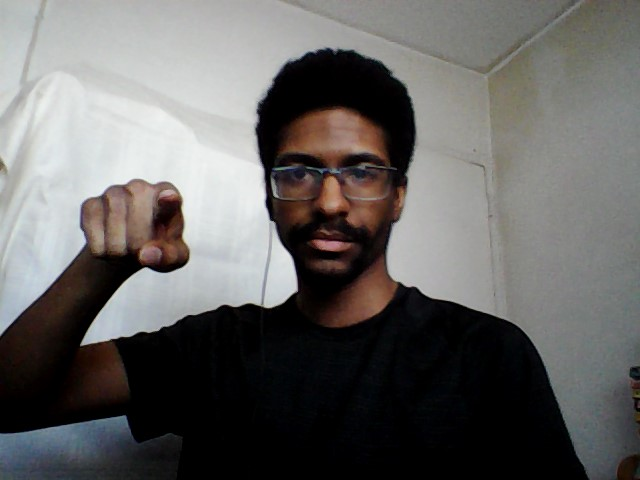z: (77, 173, 198, 276)
